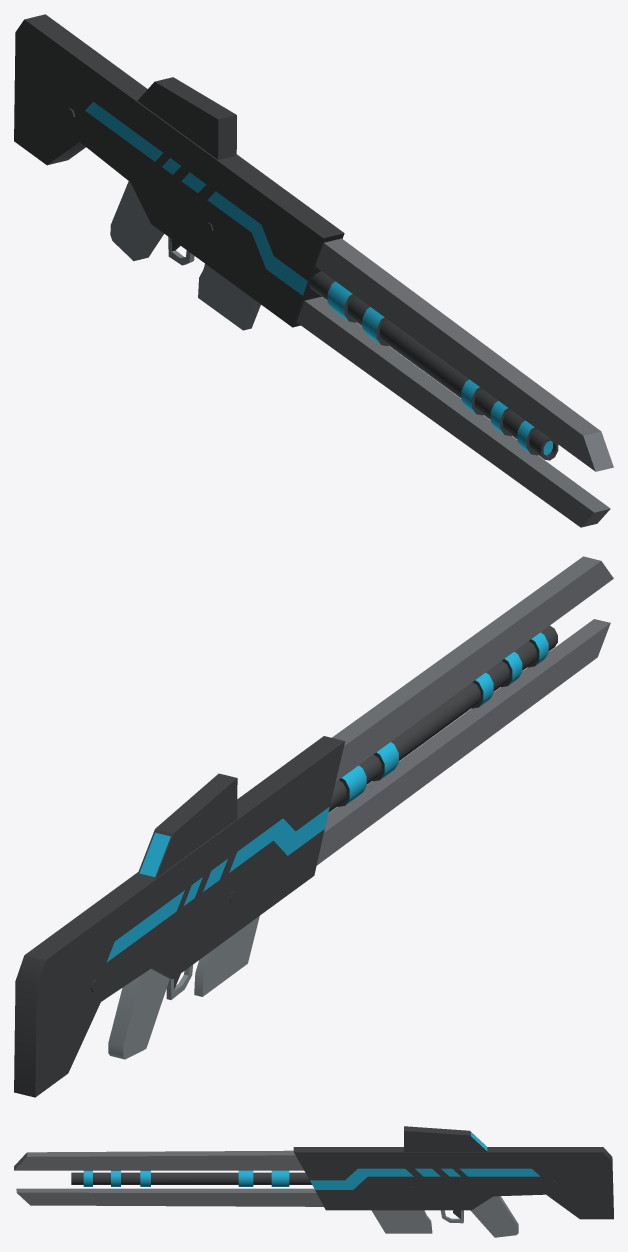
The model's file is RailGun.fbx.
3 renders of one model, top to bottom at view 1: azimuth 30°, elevation 25°; view 2: azimuth 150°, elevation 25°; view 3: azimuth 270°, elevation 25°, orthographic. The views are drawn at different scales.
Visible parts, largest first — view 1: RailGun; view 2: RailGun; view 3: RailGun.
Part boxes in pixels (bbox=[...]): RailGun: bbox=[14, 14, 613, 527]; RailGun: bbox=[14, 556, 613, 1097]; RailGun: bbox=[14, 1126, 613, 1237].
Bounding box in the file's own units: 2.31 × 18.64 × 94.69.
